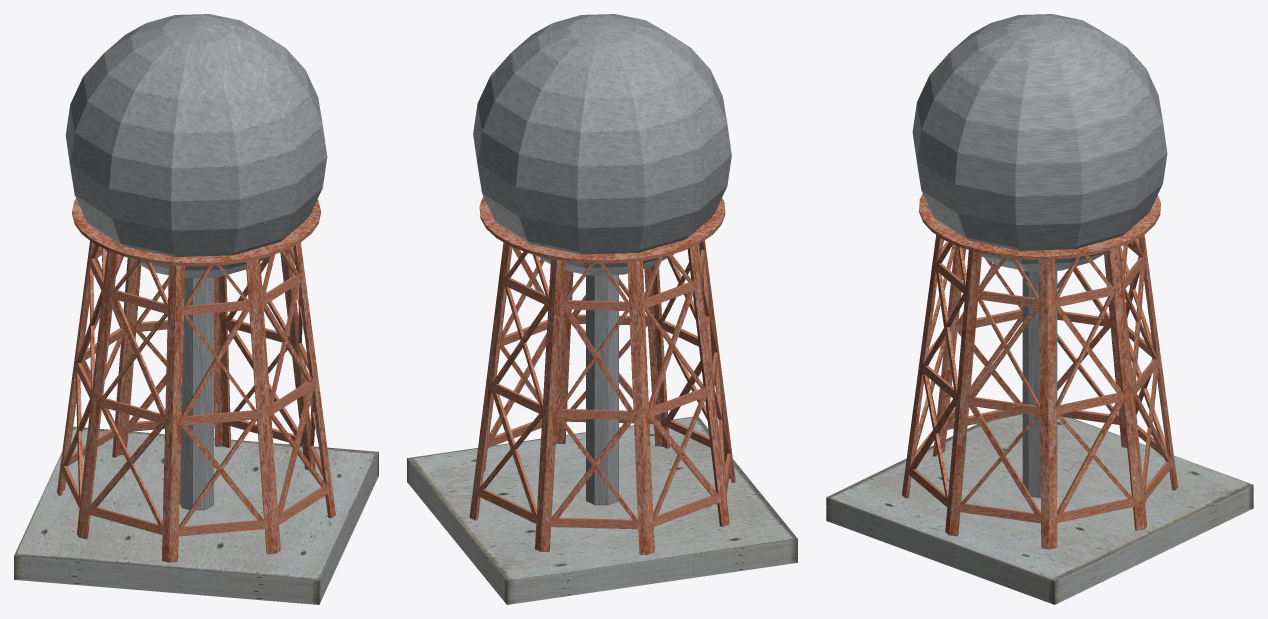
File: GMLID_1381455_184173_656.gltf
3 views of the same model, side by side, from view 1: azimuth 30°, elevation 25°; view 2: azimuth 150°, elevation 25°; view 3: azimuth 270°, elevation 25° (orthographic). The views are drawn at different scales.
Parts seen in each view (by area): view 1: Z_UP; view 2: Z_UP; view 3: Z_UP.
Boxes of the visible parts, x1=… form: Z_UP: x1=14, y1=14, x2=378, y2=604; Z_UP: x1=407, y1=14, x2=797, y2=604; Z_UP: x1=826, y1=14, x2=1253, y2=604.
Size of the model in its own units: 14.81 by 18.72 by 14.81.
1 material, 1 textured.
